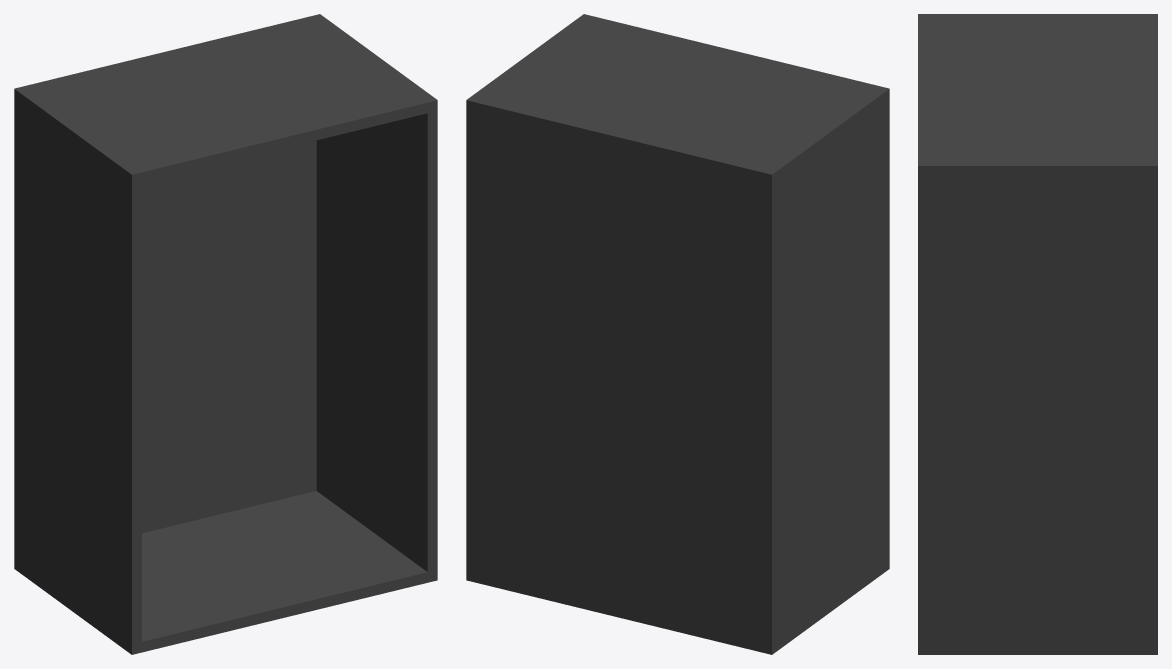
File: Kitchen1_C3_07.fbx
3 views of the same model, side by side, from view 1: azimuth 30°, elevation 25°; view 2: azimuth 150°, elevation 25°; view 3: azimuth 270°, elevation 25° (orthographic).
Visible parts, largest first — view 1: Kitchen1_C3_07; view 2: Kitchen1_C3_07; view 3: Kitchen1_C3_07.
Boxes of the visible parts, bbox=[...] form: Kitchen1_C3_07: bbox=[14, 14, 437, 654]; Kitchen1_C3_07: bbox=[466, 14, 889, 654]; Kitchen1_C3_07: bbox=[918, 14, 1157, 654].
Size of the model in its own units: 60 by 90 by 40.
